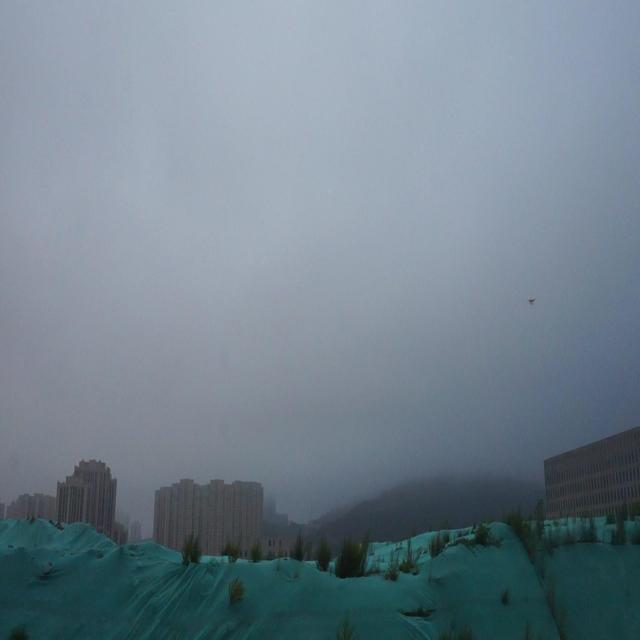drone: (527, 292, 536, 307)
